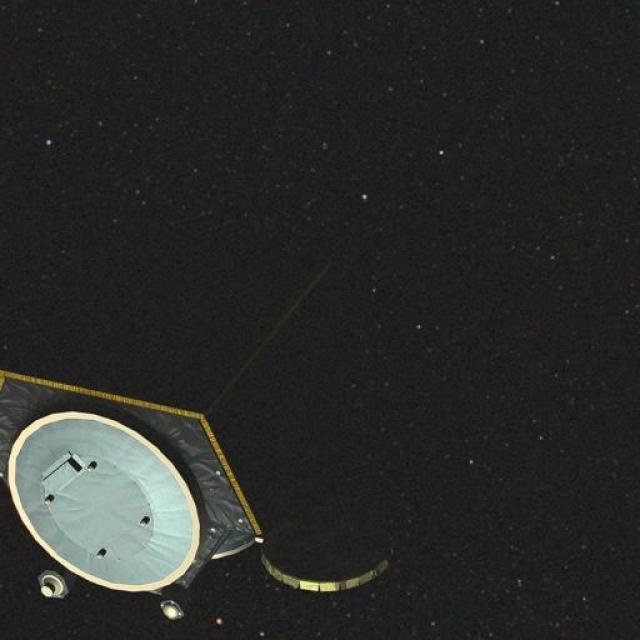cheops: (0, 255, 388, 609)
